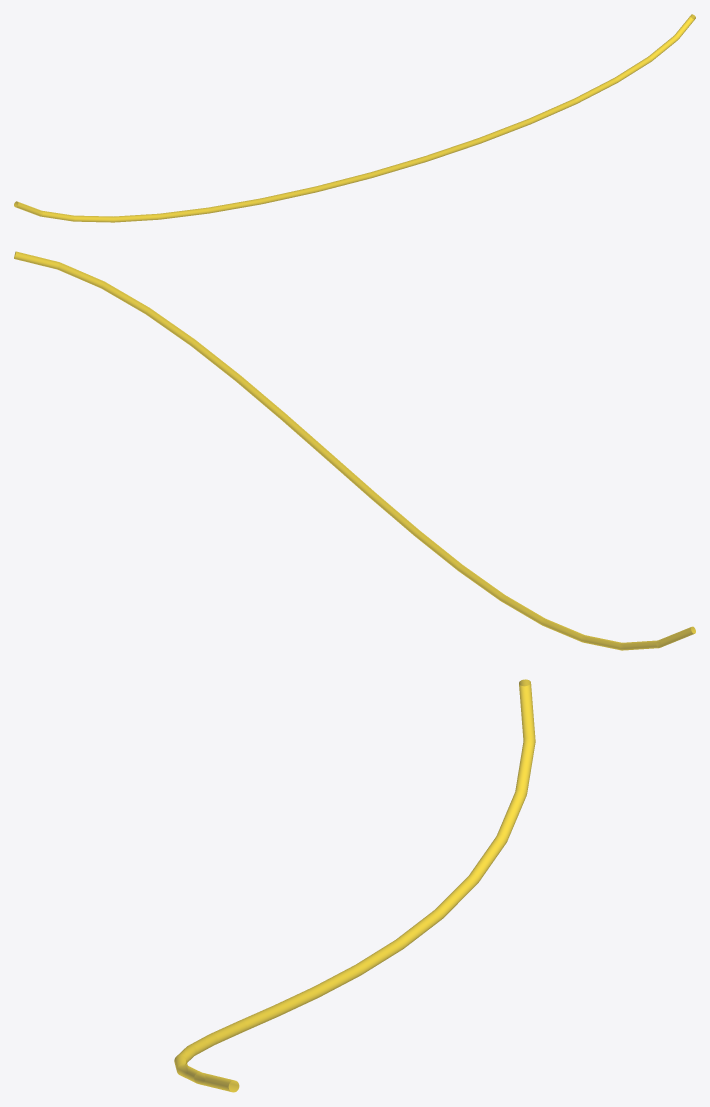
Rendered from Event_100608114_track_79.fbx.
3 renders of one model, top to bottom at view 1: azimuth 30°, elevation 25°; view 2: azimuth 150°, elevation 25°; view 3: azimuth 270°, elevation 25°, orthographic. The views are drawn at different scales.
Parts seen in each view (by area): view 1: Model; view 2: Model; view 3: Model.
Boxes of the visible parts, <box> form: Model: <box>14,14,695,222</box>; Model: <box>14,251,695,650</box>; Model: <box>174,679,535,1092</box>.
Bounding box in the file's own units: 4.61 × 0.9667 × 1.19.
